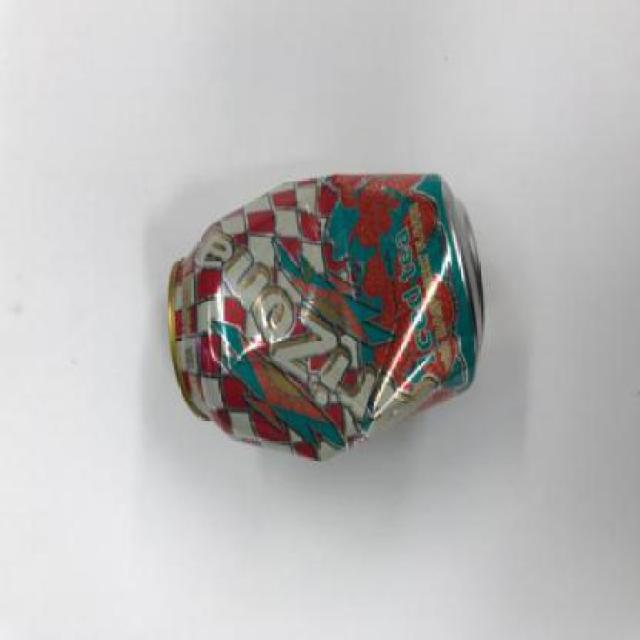METAL: (165, 171, 484, 460)
